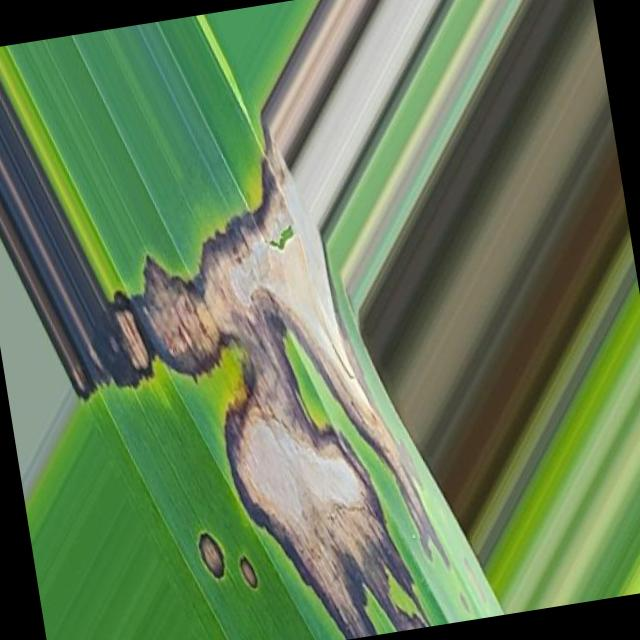Banana_Black_Sigatoka: (52, 169, 448, 430), (192, 382, 489, 630)
